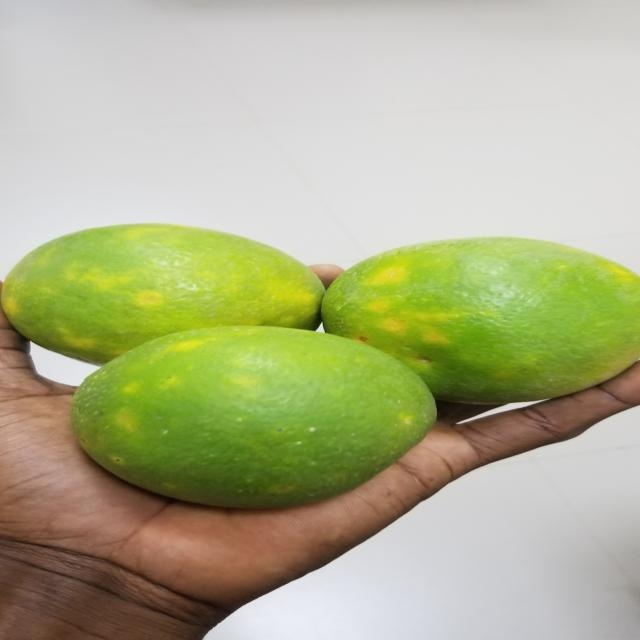agrume: (59, 322, 457, 516), (327, 230, 633, 413), (3, 225, 340, 362)
